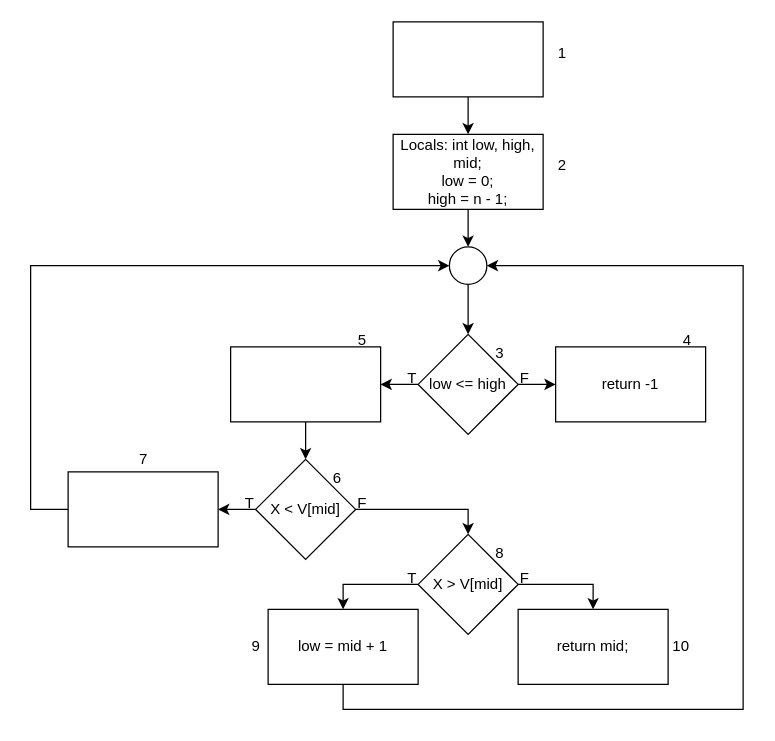
Image size: 775x741. Some labels were removed from this diagram. Here are the shapes that lost their labels. From the top down, the box of each, then its label:
(392, 21, 543, 97): Params: int X, int V[], int n
(229, 346, 381, 422): mid = (low + high)/2
(67, 471, 218, 547): high = mid - 1
